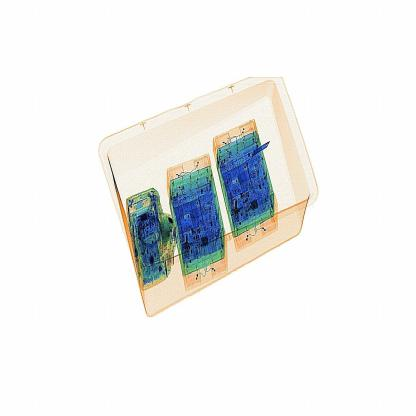pliers: (248, 126, 280, 166)
